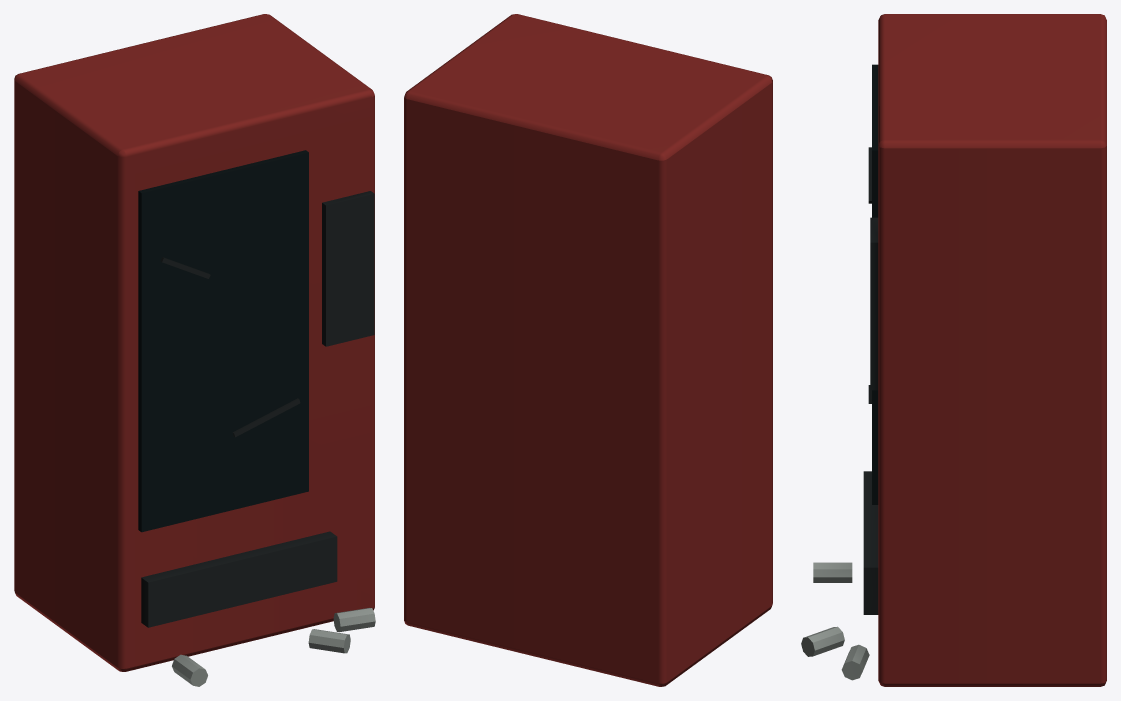
File: vending_machine.glb
The picture shows the model from 3 angles, left to right: view 1: azimuth 30°, elevation 25°; view 2: azimuth 150°, elevation 25°; view 3: azimuth 270°, elevation 25°; orthographic projection. The views are drawn at different scales.
Visible parts, largest first — view 1: VendingMachine; view 2: VendingMachine; view 3: VendingMachine.
Boxes of the visible parts, left/top/right/bottom form: VendingMachine: left=14, top=14, right=375, bottom=686; VendingMachine: left=404, top=14, right=772, bottom=686; VendingMachine: left=801, top=14, right=1106, bottom=686.
Bounding box in the file's own units: 0.95 × 1.85 × 0.9372.
